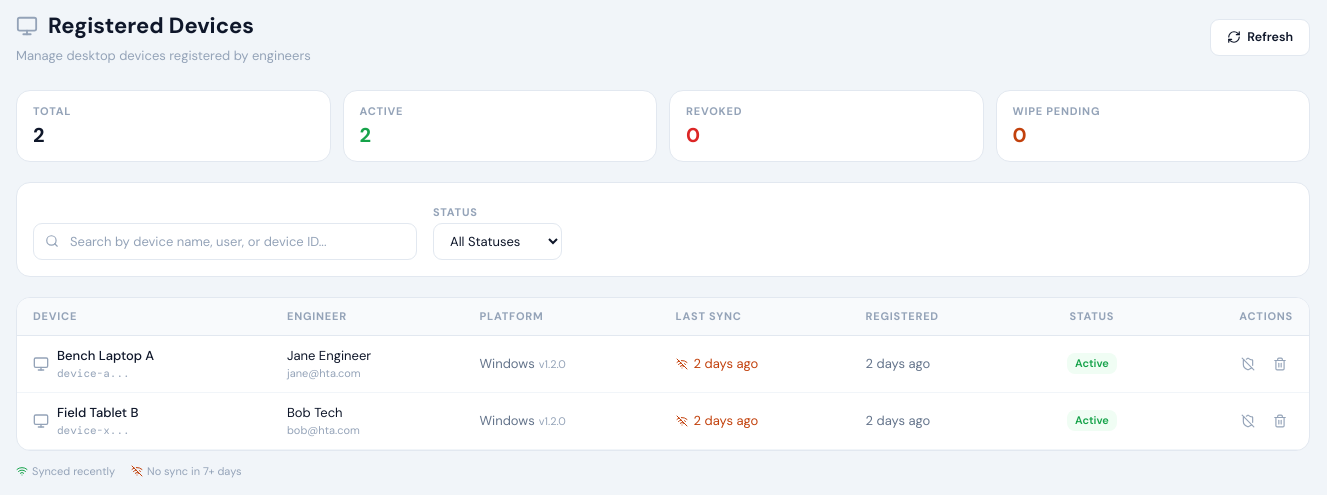
Test: DeviceListClient › filters devices by search term
The width and height of the screenshot is (1327, 495).
Expected: the text "Bench Laptop A" is shown, [57,346,154,365]
Expected: the text "Field Tablet B" is shown, [57,402,138,422]
# Type a search term that matches only the first device
Type "Bench" into the field with placeholder "Search by device name, user, or device ID..." at (225, 241), box [33,222,417,260]
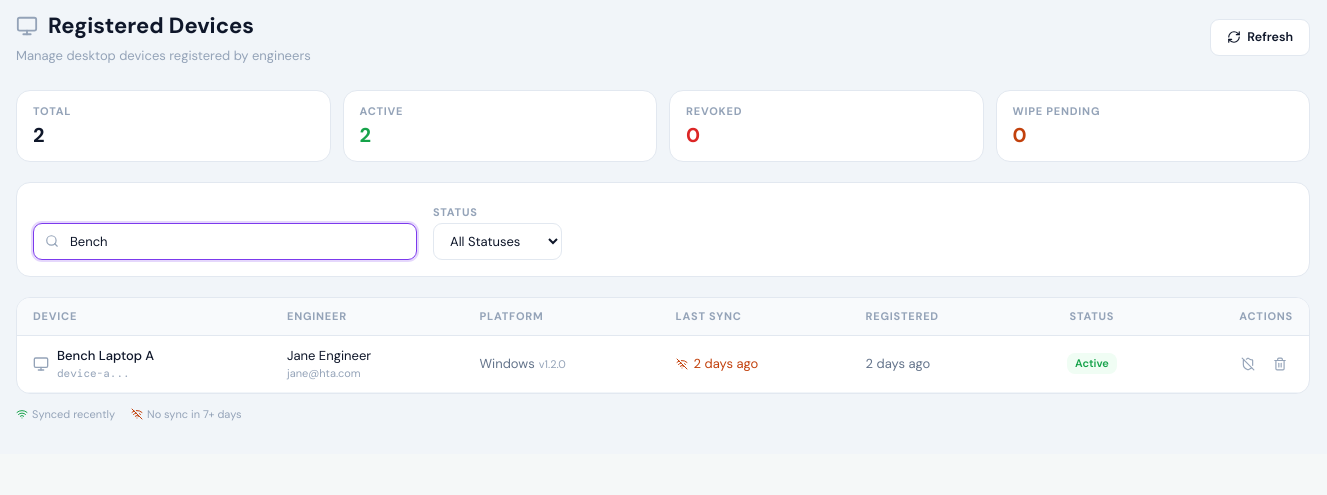
Expected: the text "Bench Laptop A" is shown, [57,346,154,365]
Expected: the text "Field Tablet B" is gone
